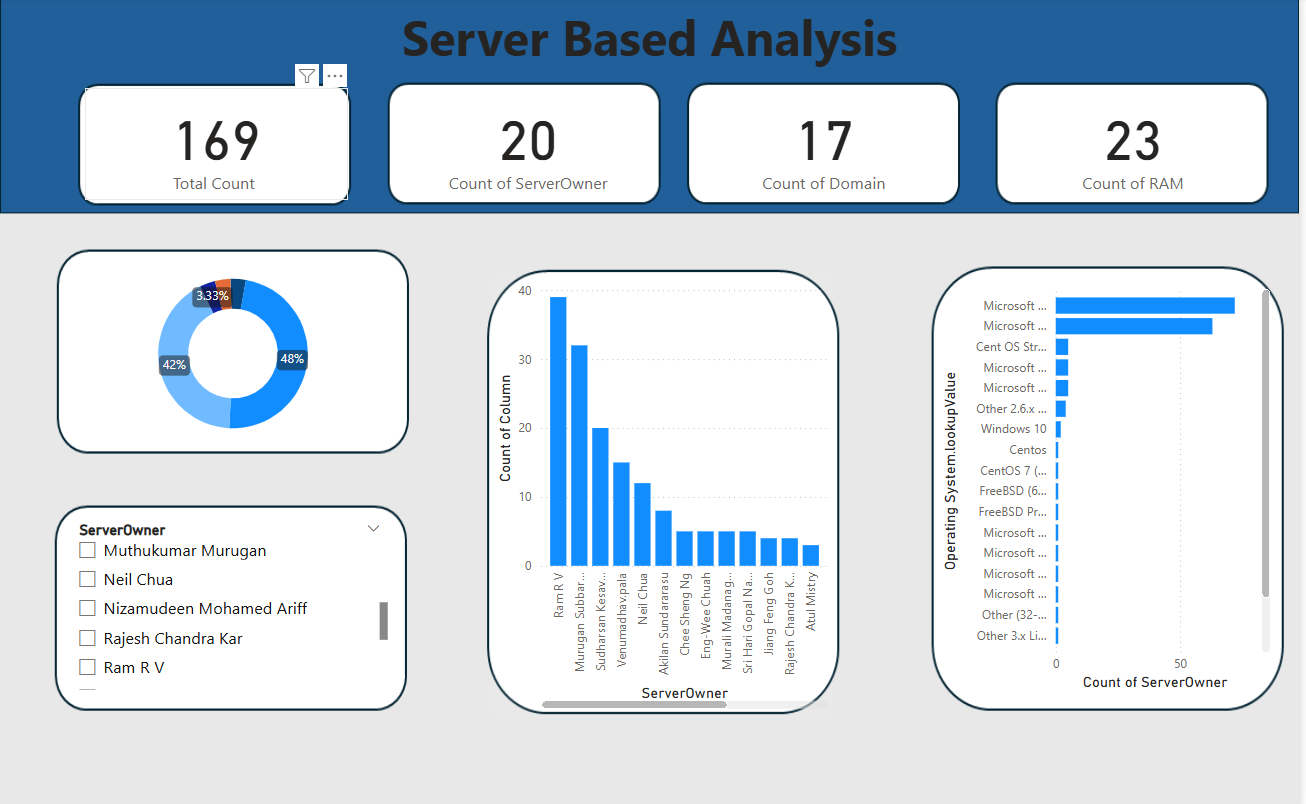

The page's visual inventory and layout, read from the dashboard file:
{"tool":"powerbi","page":{"name":"Page 2","canvas":[1280,800],"ordinal":1},"visuals":[{"type":"card","fields":{"Values":["VM Requests.Column"]},"box":[83.7,88.7,259.1,110.3],"z":0},{"type":"card","fields":{"Values":["VM Requests.ServerOwner"]},"box":[387.2,88.7,267,110.3],"z":1},{"type":"donutChart","fields":{"Category":["VM Requests.Operating System.lookupValue"],"Y":["VM Requests.VM Count"]},"box":[56.2,248.3,346.8,203.9],"z":2},{"type":"slicer","fields":{"Values":["VM Requests.ServerOwner"]},"box":[65,511.3,322.2,175.4],"z":3},{"type":"columnChart","fields":{"Y":["VM Requests.Column"],"Category":["VM Requests.ServerOwner"]},"box":[484.7,273.9,336,431.5],"z":4},{"type":"clusteredBarChart","fields":{"Category":["VM Requests.Operating System.lookupValue"],"Y":["VM Requests.ServerOwner"]},"box":[923.2,273.9,333,412.8],"z":5},{"type":"card","fields":{"Values":["VM Requests.Domain"]},"box":[687.5,88.9,247.8,109.9],"z":6},{"type":"card","fields":{"Values":["VM Requests.RAM"]},"box":[984.2,88.7,265,110.3],"z":7},{"type":"textbox","box":[0,0,1279.8,79.8],"z":8}]}

Visuals, with their boxes in screenshot pixels (x1, y1, x2, y2), scaled from the page's 1280x800 canvas onto the 1306x804 screenshot:
card - VM Requests.Column: pyautogui.locateOnScreen(85, 89, 350, 200)
card - VM Requests.ServerOwner: pyautogui.locateOnScreen(395, 89, 667, 200)
donutChart - VM Requests.Operating System.lookupValue x VM Requests.VM Count: pyautogui.locateOnScreen(57, 250, 411, 454)
slicer - VM Requests.ServerOwner: pyautogui.locateOnScreen(66, 514, 395, 690)
columnChart - VM Requests.Column x VM Requests.ServerOwner: pyautogui.locateOnScreen(495, 275, 837, 709)
clusteredBarChart - VM Requests.Operating System.lookupValue x VM Requests.ServerOwner: pyautogui.locateOnScreen(942, 275, 1282, 690)
card - VM Requests.Domain: pyautogui.locateOnScreen(701, 89, 954, 200)
card - VM Requests.RAM: pyautogui.locateOnScreen(1004, 89, 1275, 200)
textbox: pyautogui.locateOnScreen(0, 0, 1305, 80)
